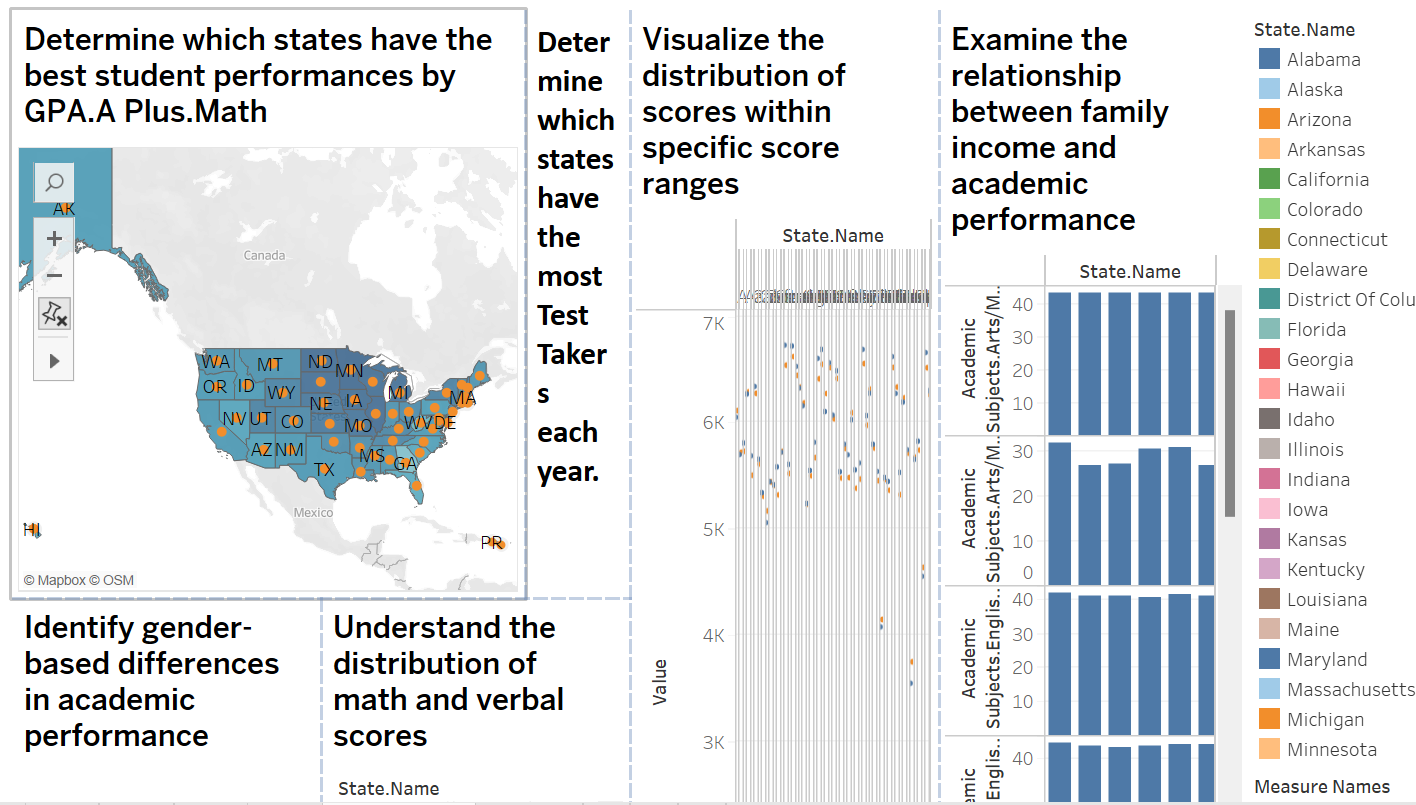

Layout of this report page (visuals, bound fields, positions):
{"tool":"tableau","page":{"name":"Dashboard 1","canvas":[1000,800],"ordinal":0},"visuals":[{"type":"worksheet","title":"Goal 6","mark":"Multipolygon","box":[8,8,342,392]},{"type":"worksheet","title":"Goal 5","mark":"Bar","rows":["Total.Test-takers"],"cols":["State.Name"],"box":[350,8,70,392]},{"type":"worksheet","title":"Goal 4","mark":"Shape","cols":["State.Name"],"box":[420,8,206,784]},{"type":"worksheet","title":"Goal 2","mark":"Automatic","rows":["Academic Subjects.Arts/Music.Average GPA","Academic Subjects.Arts/Music.Average Years","Academic Subjects.English.Average GPA","Academic Subjects.English.Average Years","Academic Subjects.Foreign Languages.Average GPA","Academic Subjects.Foreign Languages.Average Years","Academic Subjects.Mathematics.Average GPA","Academic Subjects.Mathematics.Average Years","Academic Subjects.Natural Sciences.Average GPA","Academic Subjects.Natural Sciences.Average Years","Academic Subjects.Social Sciences/History.Average GPA","Academic Subjects.Social Sciences/History.Average Years"],"cols":["State.Name"],"box":[626,8,206,784]},{"type":"legend","title":"Goal 1","param":"[federated.1aobrby1sponhy1ci64a508zco26].[none:State.Name:nk]","box":[832,8,160,505]},{"type":"worksheet","title":"Goal 3","mark":"Automatic","rows":["Year"],"cols":["Gender.Female.Math","Gender.Female.Test-takers","Gender.Female.Verbal","Gender.Male.Math","Gender.Male.Test-takers","Gender.Male.Verbal","Total.Math","Total.Verbal"],"box":[8,400,206,392]},{"type":"worksheet","title":"Goal 1","mark":"Automatic","rows":["State.Name"],"cols":["Year"],"box":[214,400,206,392]},{"type":"legend","title":"Goal 4","param":"[federated.1aobrby1sponhy1ci64a508zco26].[:Measure Names]","box":[832,513,160,66]},{"type":"legend","title":"Goal 6","param":"[federated.1aobrby1sponhy1ci64a508zco26].[avg:GPA.A plus.Math:qk]","box":[832,579,160,65]},{"type":"legend","title":"Goal 6","param":"[federated.1aobrby1sponhy1ci64a508zco26].[sum:Total.Verbal:qk]","box":[832,644,160,22]},{"type":"legend","title":"Goal 6","param":"[federated.1aobrby1sponhy1ci64a508zco26].[avg:GPA.A plus.Math:qk]","box":[832,666,160,126]}]}

Visuals, with their boxes on the page's 1000x800 design canvas (x1, y1, x2, y2). These are canvas units, not pixel positions in the 1416x805 screenshot, which may show the page scaled, cropped or inside an application window:
"Goal 6" worksheet (Multipolygon marks): Rect(8, 8, 350, 400)
"Goal 5" worksheet (Bar marks): Rect(350, 8, 420, 400)
"Goal 4" worksheet (Shape marks): Rect(420, 8, 626, 792)
"Goal 2" worksheet: Rect(626, 8, 832, 792)
"Goal 1" legend: Rect(832, 8, 992, 513)
"Goal 3" worksheet: Rect(8, 400, 214, 792)
"Goal 1" worksheet: Rect(214, 400, 420, 792)
"Goal 4" legend: Rect(832, 513, 992, 579)
"Goal 6" legend: Rect(832, 579, 992, 644)
"Goal 6" legend: Rect(832, 644, 992, 666)
"Goal 6" legend: Rect(832, 666, 992, 792)
